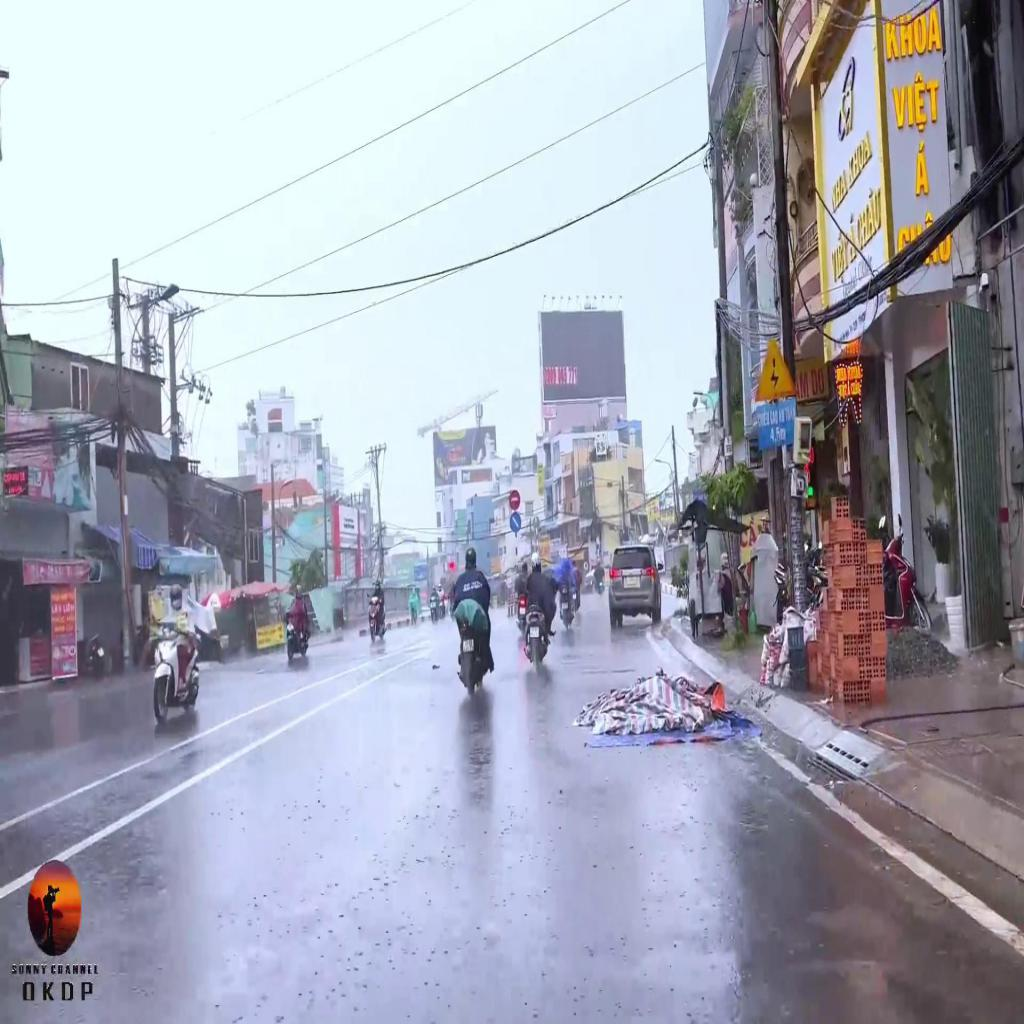cam_xe_di_nguoc_chieu: (509, 488, 521, 512)
huong_phai_di_vuot_chuong_ngai_vat_phai: (509, 510, 521, 534)
khac: (752, 334, 800, 405), (754, 398, 796, 450)
